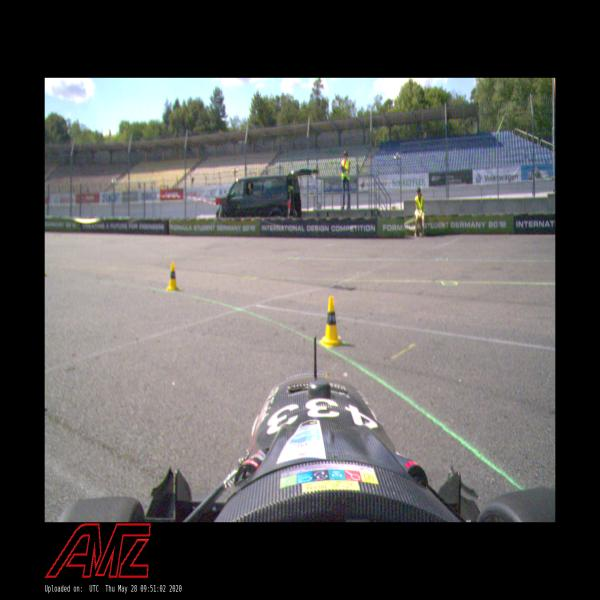yellow_cone: (322, 292, 343, 346), (166, 262, 179, 291)
